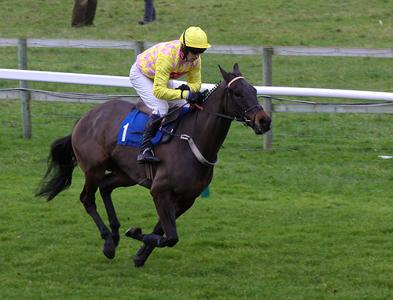person: (130, 25, 213, 164)
